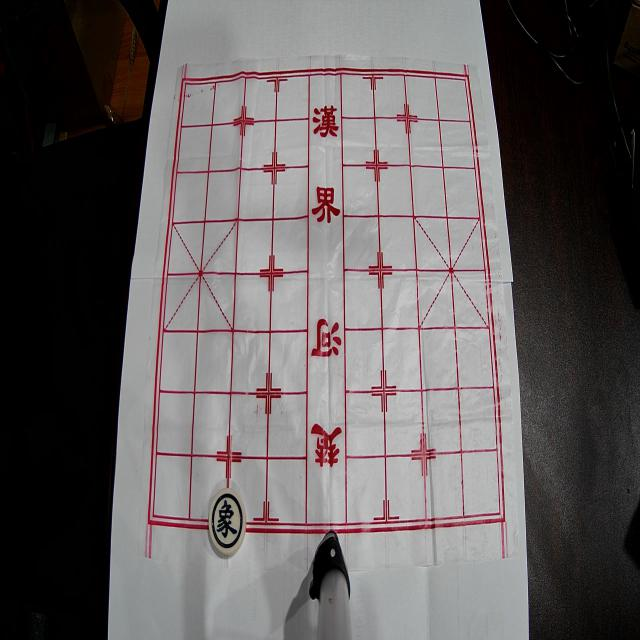black-elephant: (209, 488, 246, 555)
